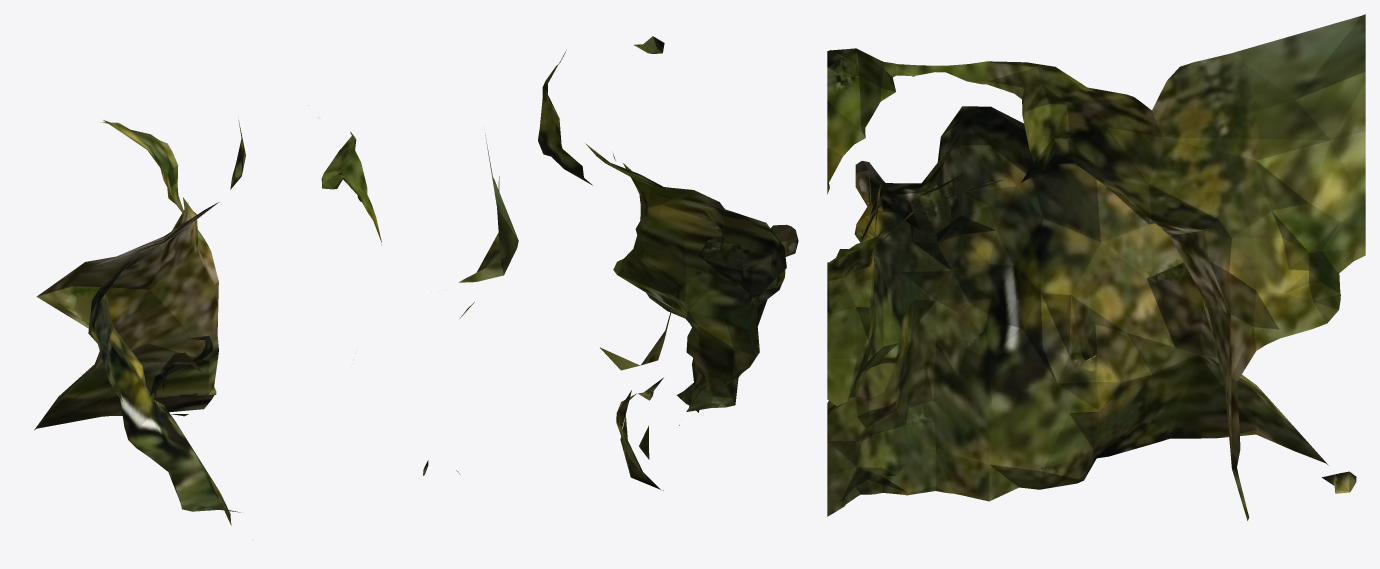
3 renders of one model, left to right at view 1: azimuth 30°, elevation 25°; view 2: azimuth 150°, elevation 25°; view 3: azimuth 270°, elevation 25°, orthographic. The views are drawn at different scales.
Bounding box in the file's own units: 1.04 × 1.67 × 1.67.
Materials: 4 (4 with a texture image).
